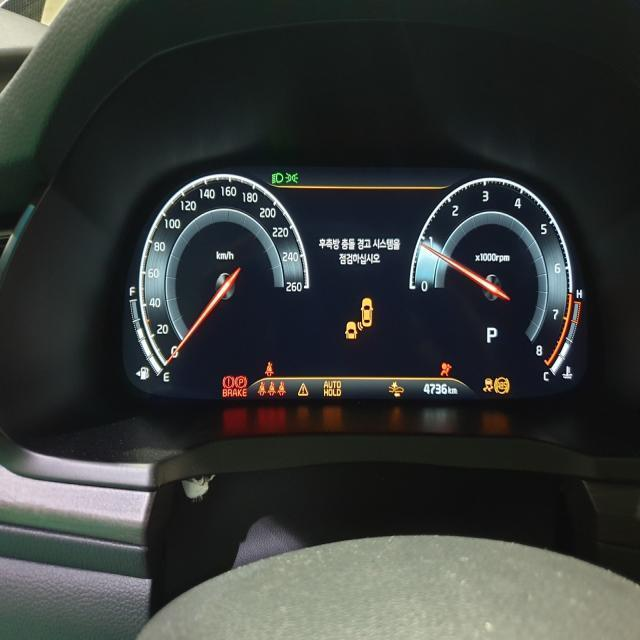Central Warning lamp: (297, 381, 308, 396)
Low beam: (270, 170, 284, 184)
SideLamp: (284, 170, 298, 184)
